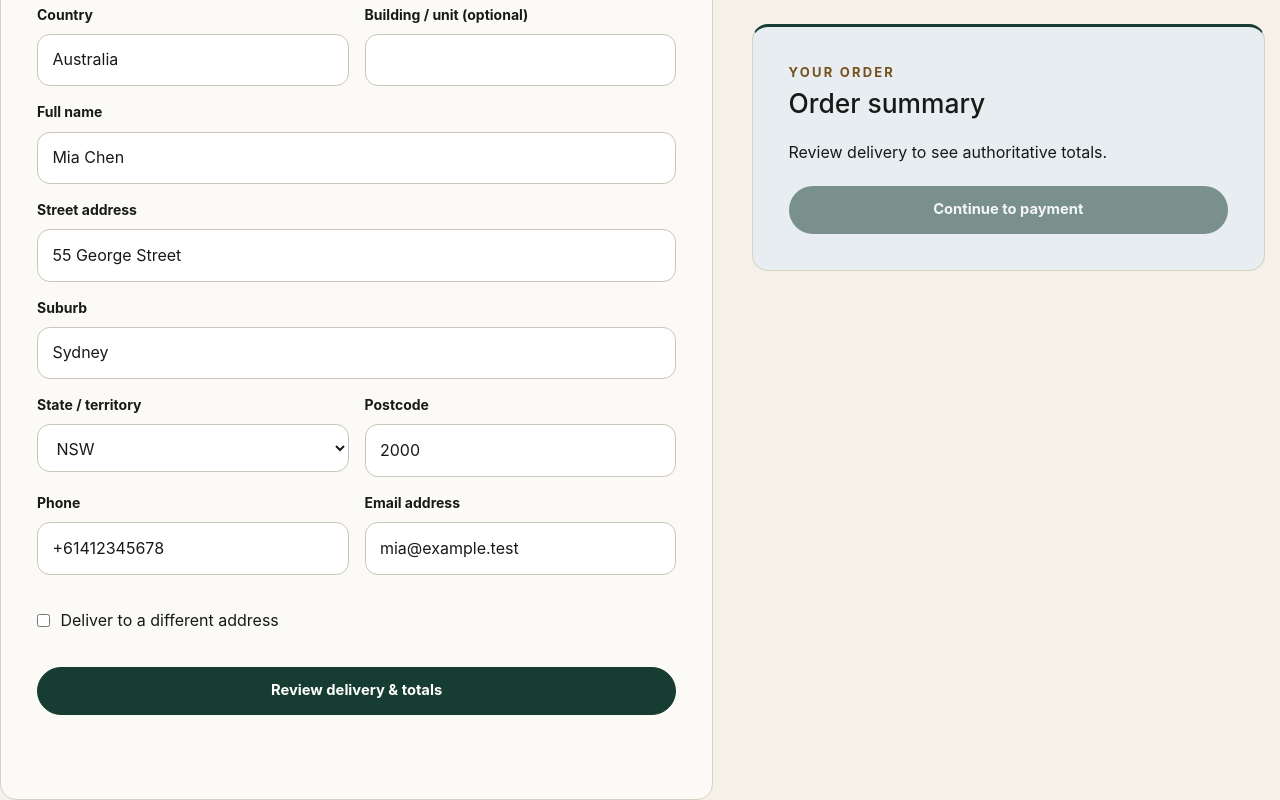
it: CheckoutView › filters PayID using reviewed AU / AUD
(page scrolled)
Step 1. Click the button "Review delivery & totals" → (357, 691), box [37,667,676,715]
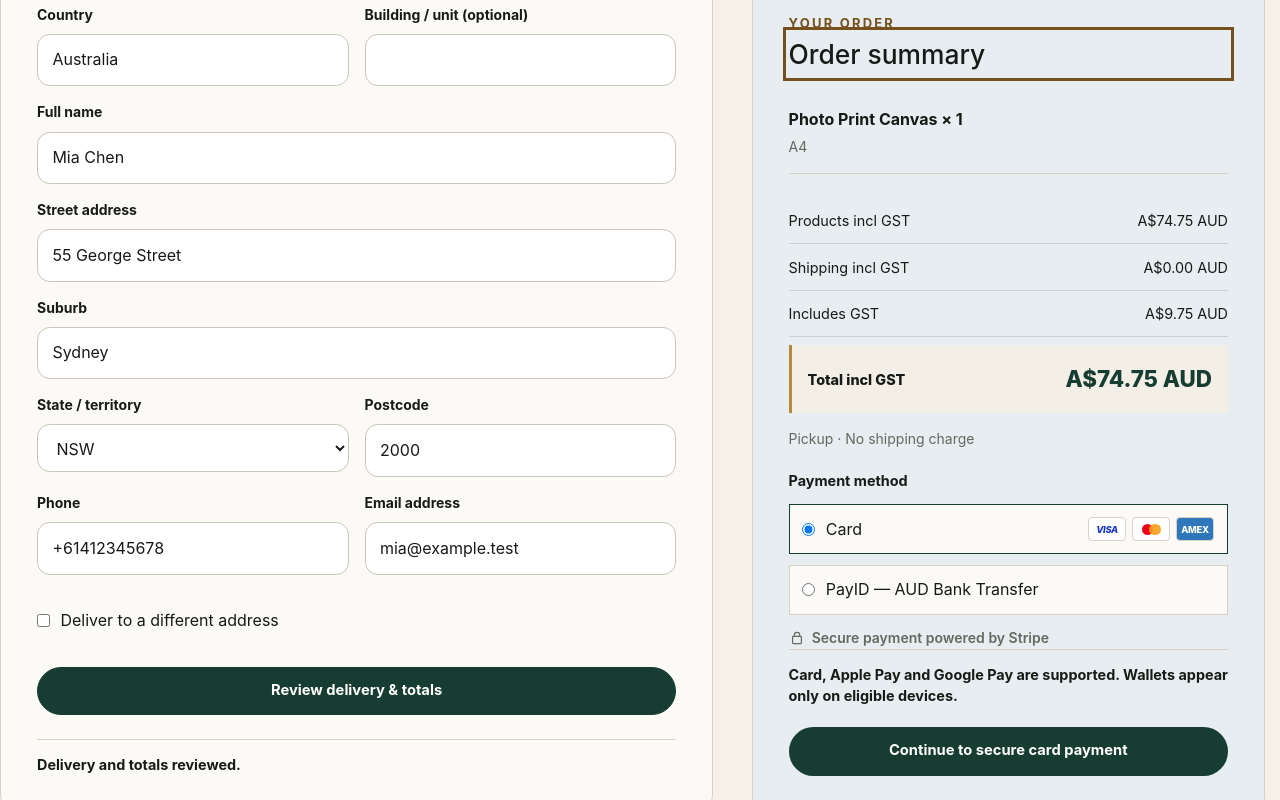
expect the radio button labelled "Card" is shown: met, box [802,523,815,536]
